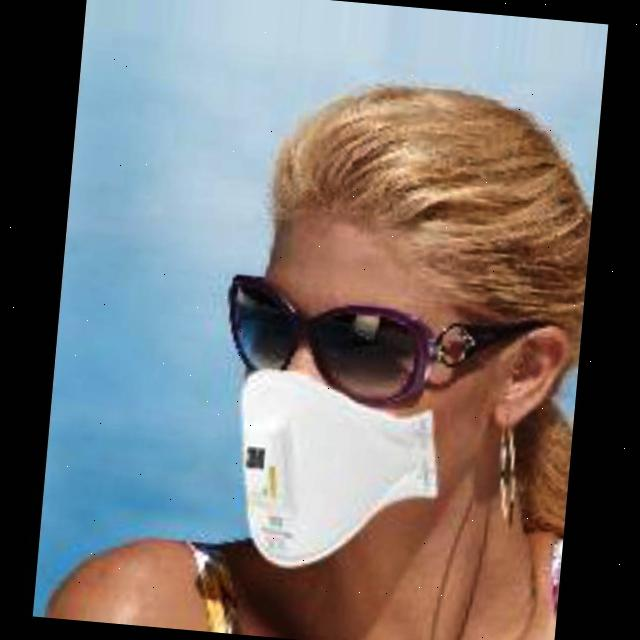suspicion: (179, 128, 494, 591)
